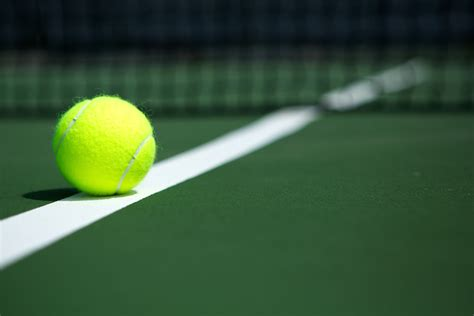tennis_ball: (51, 94, 158, 197)
